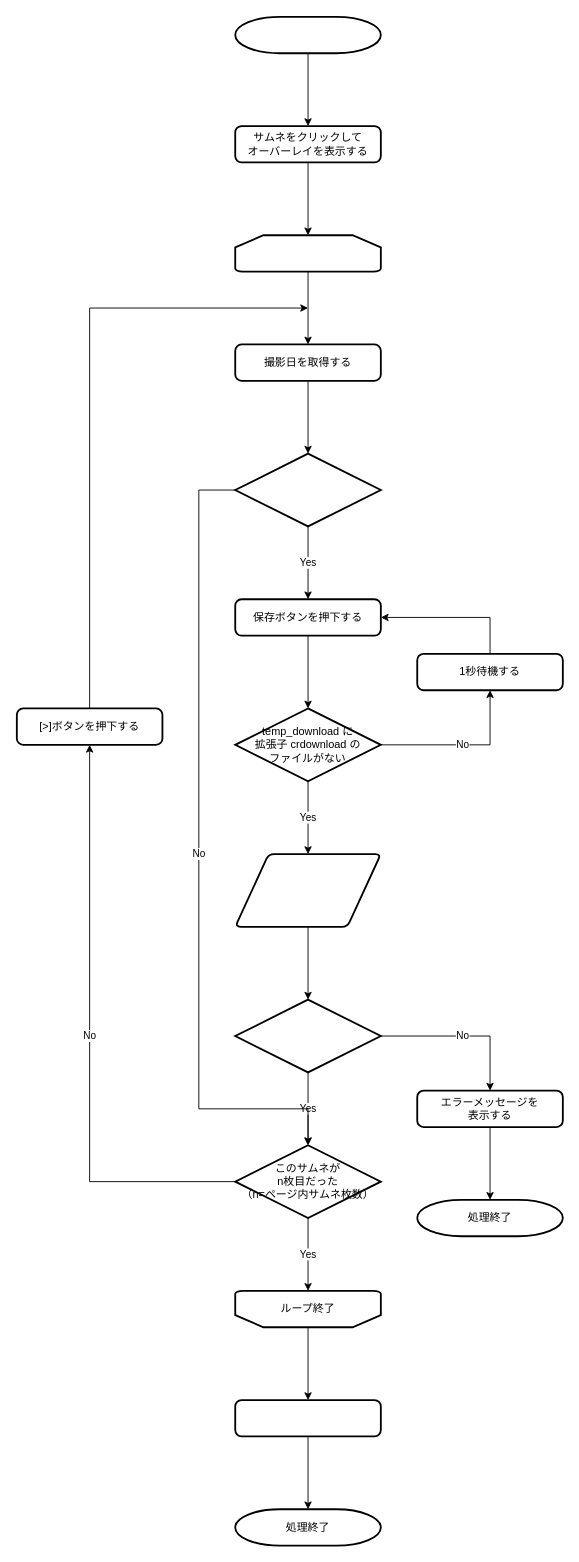
Image size: 579x1562. Some labels were removed from this diagram. Each missing label, with the centre of its shape:
"'temp_download'に ファイルがない" goes at (x=307, y=1035).
"[x]ボタンを押下する" goes at (x=307, y=1418).
"temp_downroad から ダウンロード ディレクトリへ ファイルを移動し リネームする" goes at (x=307, y=890).
"ループ開始" goes at (x=307, y=253).
"処理開始" goes at (x=307, y=34).
"撮影日がDL開始日と DL終了日の 間の日付である" goes at (x=307, y=489).
